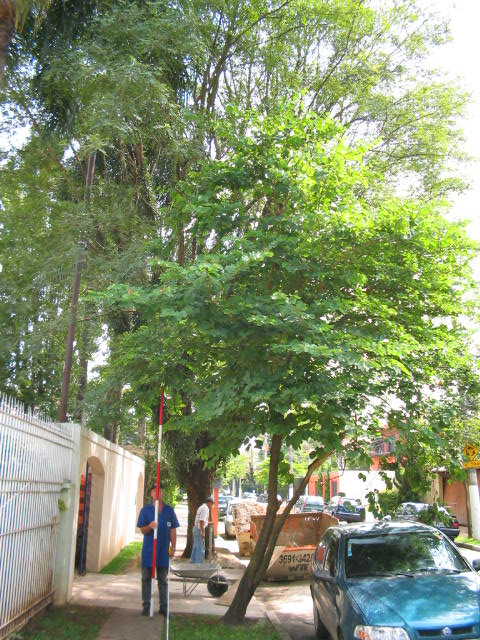crown: (87, 108, 477, 475)
stem: (225, 572, 269, 622)
stick: (144, 386, 169, 618)
tree: (83, 105, 480, 624)
